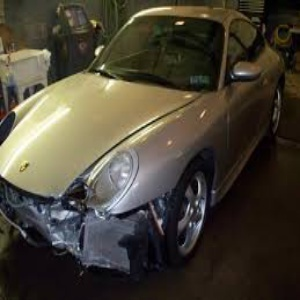bumper: (21, 214, 150, 286)
head_lights: (67, 142, 141, 213)
